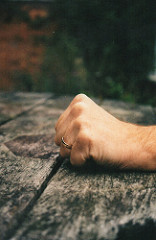fist: (54, 91, 122, 166)
